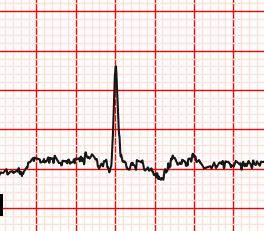T inversion: (134, 153, 185, 183)
